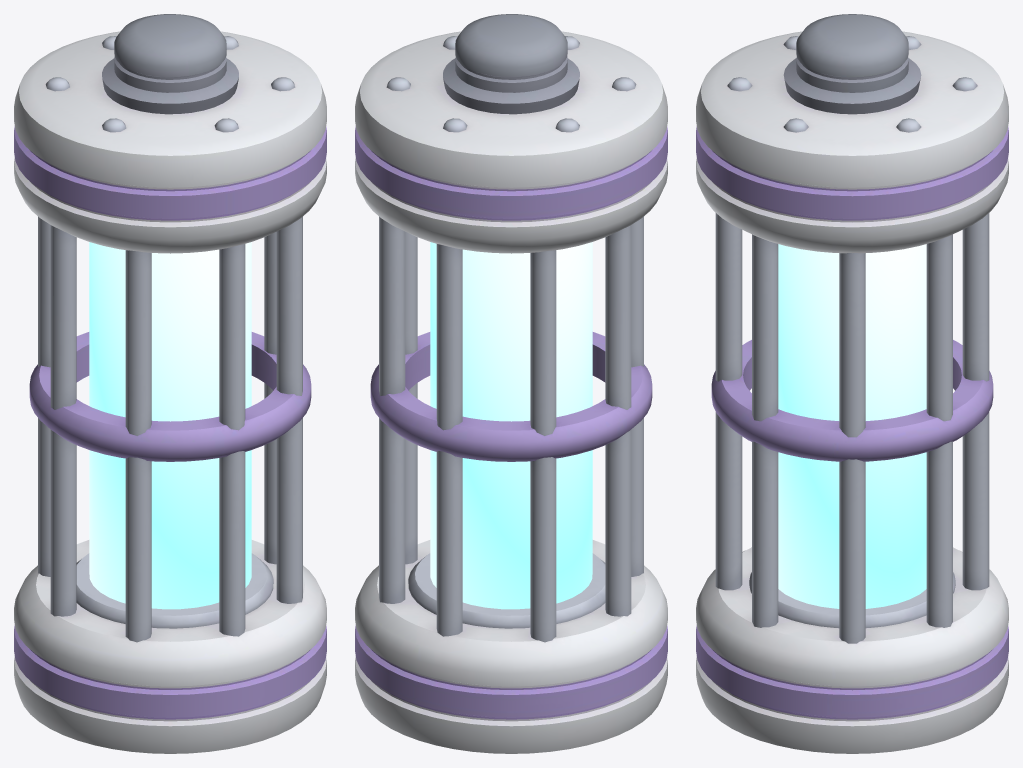
Rendered from green-plasma-bomb.glb.
3 views of the same model, side by side, from view 1: azimuth 30°, elevation 25°; view 2: azimuth 150°, elevation 25°; view 3: azimuth 270°, elevation 25° (orthographic).
Parts seen in each view (by area): view 1: energy-cell_body, energy-cell_core_glow; view 2: energy-cell_body, energy-cell_core_glow; view 3: energy-cell_body, energy-cell_core_glow.
Part boxes in pixels (x1,y1,x2,y2): energy-cell_body: (14, 14, 326, 753); energy-cell_core_glow: (89, 242, 251, 609); energy-cell_body: (355, 14, 667, 753); energy-cell_core_glow: (430, 242, 592, 609); energy-cell_body: (696, 14, 1008, 753); energy-cell_core_glow: (778, 244, 926, 608).
Bounding box in the file's own units: 0.2 × 0.4715 × 0.2.
Materials: 2 (1 with a texture image).
